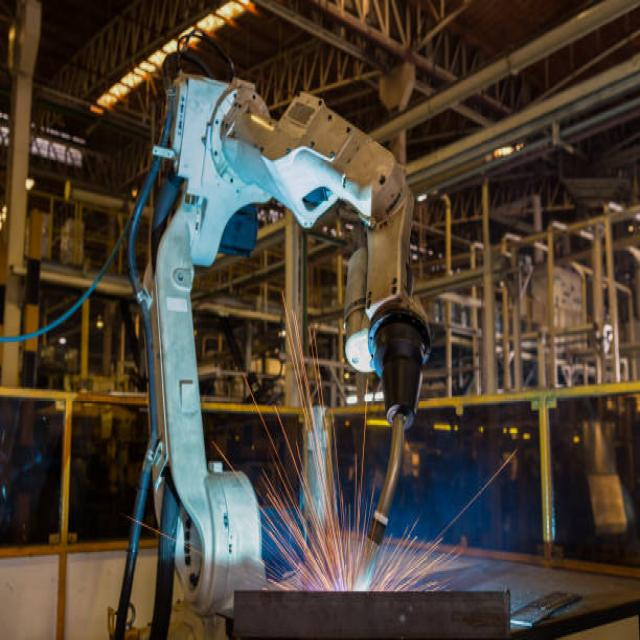Robotic-arm: (129, 69, 431, 638)
